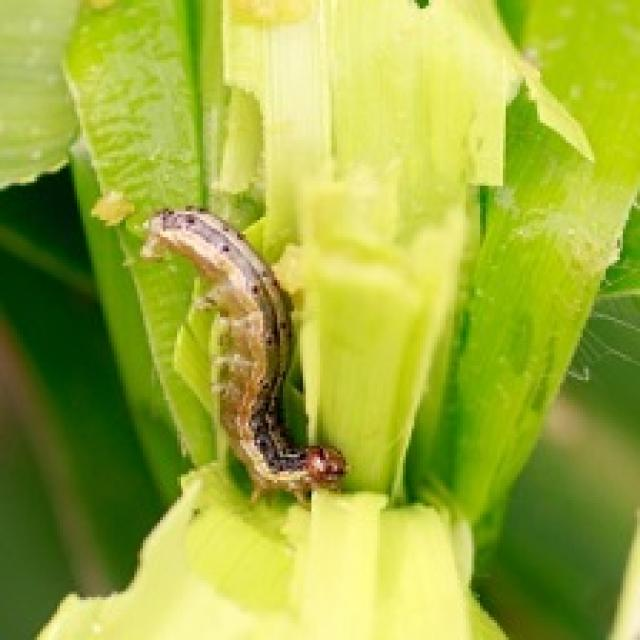worm: (138, 204, 350, 507)
